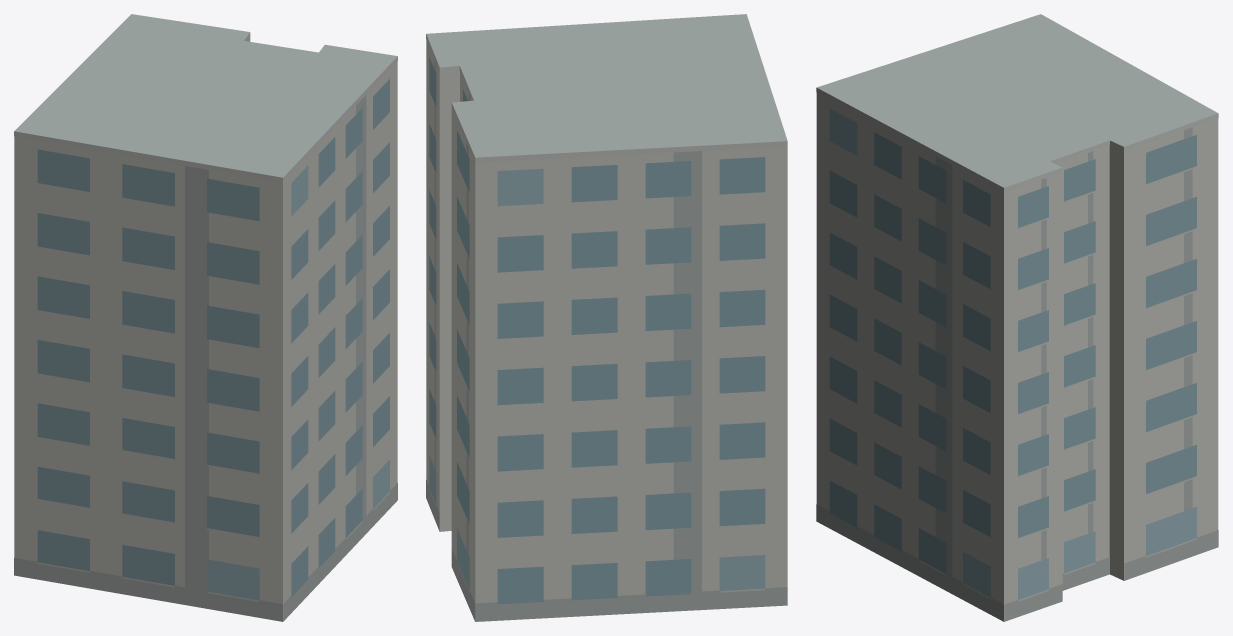
The model's file is survey-upis-32684058.glb.
3 renders of one model, left to right at view 1: azimuth 30°, elevation 25°; view 2: azimuth 150°, elevation 25°; view 3: azimuth 270°, elevation 25°, orthographic. The views are drawn at different scales.
Visible parts, largest first — view 1: survey-upis-32684058.tmp; view 2: survey-upis-32684058.tmp; view 3: survey-upis-32684058.tmp.
Part boxes in pixels (x1,y1,x2,y2): survey-upis-32684058.tmp: (14, 14, 397, 621); survey-upis-32684058.tmp: (426, 14, 787, 621); survey-upis-32684058.tmp: (816, 14, 1218, 621).
Size of the model in its own units: 18.36 by 21.35 by 17.93.
